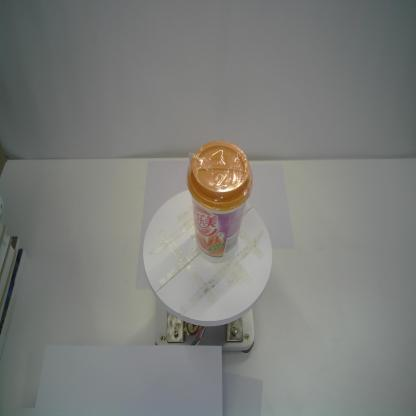Instant Drink: (186, 140, 254, 264)
